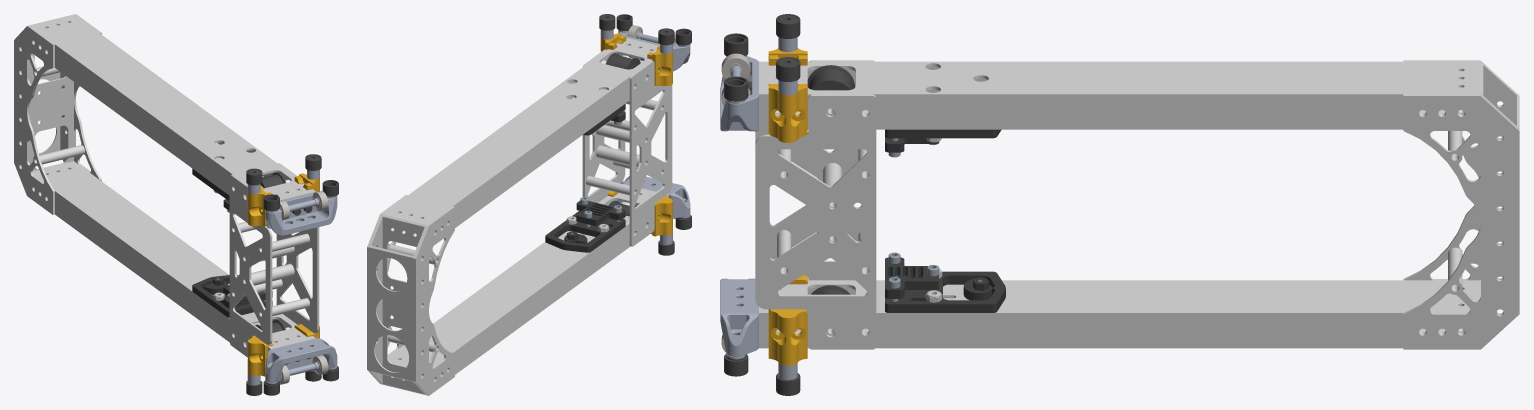
The picture shows the model from 3 angles, left to right: view 1: azimuth 30°, elevation 25°; view 2: azimuth 150°, elevation 25°; view 3: azimuth 270°, elevation 25°; orthographic projection. The views are drawn at different scales.
Parts seen in each view (by area): view 1: 5409-26-P-42001-MOVING-STAGE-TUBE:1 (×2), 5409-26-P-42006-CENTER-PLATE v20:2, 5409-26-P-42001-END-EFFECTOR-PLATE v39:1, Elevator Bearing Block Body REV4(All Parts, Short Spacers) ( (×2), 5409-26-P-42002-END-EFFECTOR-BAR v31:1, 5409-26-P-42006-CENTER-PLATE v20:1, WCP-0323-001 Rev2:1 (×3), 5409-26-P-44001-TENSIONER-BACK-PLATE:1, 5409-26-P-42001-END-EFFECTOR-PLATE v39:2, 5409-26-P-42005-CLAMPING-STANCHION v3:1, 5409-P-26-42011-END-EFFECTOR-STANCHION v4:2, 5409-26-P-42008-MOUNTING-STANCHIONS v2:4 (+1 smaller); view 2: 5409-26-P-42001-MOVING-STAGE-TUBE:1 (×2), 5409-26-P-42002-END-EFFECTOR-BAR v31:1, 5409-26-P-42006-CENTER-PLATE v20:2, 5409-26-P-42001-END-EFFECTOR-PLATE v39:1, WCP-0323-001 Rev2:1 (×3), 5409-26-P-42006-CENTER-PLATE v20:1, 5409-26-P-44001-TENSIONER-BACK-PLATE:1, Elevator Bearing Block Body REV4(All Parts, Short Spacers) ( (×2), 5409-26-P-44002-TENSIONER-GRILL:1, 5409-26-P-42001-END-EFFECTOR-PLATE v39:2, 5409-26-P-42005-CLAMPING-STANCHION v3:1, 5409-26-P-42008-MOUNTING-STANCHIONS v2:3 (+2 smaller); view 3: 5409-26-P-42001-MOVING-STAGE-TUBE:1 (×2), 5409-26-P-42006-CENTER-PLATE v20:1, 5409-26-P-42001-END-EFFECTOR-PLATE v39:2, Elevator Bearing Block Body REV4(All Parts, Short Spacers) ( (×2), WCP-0323-001 Rev2:1 (×2), 5409-26-P-42006-CENTER-PLATE v20:2, 5409-26-P-44001-TENSIONER-BACK-PLATE:1 (×2), 5409-26-P-42001-END-EFFECTOR-PLATE v39:1, 5409-26-P-42002-END-EFFECTOR-BAR v31:1, 5409-26-P-44002-TENSIONER-GRILL:1, idler 18t no teeth v3:1.
Part boxes in pixels (box(x1,y1,x2,y2)): 5409-26-P-42001-MOVING-STAGE-TUBE:1 (×2): box(29, 14, 315, 351); 5409-26-P-42006-CENTER-PLATE v20:2: box(229, 174, 272, 357); 5409-26-P-42001-END-EFFECTOR-PLATE v39:1: box(14, 25, 54, 214); Elevator Bearing Block Body REV4(All Parts, Short Spacers) ( (×2): box(265, 191, 337, 382); 5409-26-P-42002-END-EFFECTOR-BAR v31:1: box(21, 48, 73, 170); 5409-26-P-42006-CENTER-PLATE v20:1: box(276, 163, 319, 333); WCP-0323-001 Rev2:1 (×3): box(247, 173, 319, 376); 5409-26-P-44001-TENSIONER-BACK-PLATE:1: box(192, 275, 272, 317); 5409-26-P-42001-END-EFFECTOR-PLATE v39:2: box(66, 14, 101, 181); 5409-26-P-42005-CLAMPING-STANCHION v3:1: box(245, 263, 294, 285); 5409-P-26-42011-END-EFFECTOR-STANCHION v4:2: box(36, 145, 84, 164); 5409-26-P-42008-MOUNTING-STANCHIONS v2:4: box(261, 298, 309, 316); 5409-26-P-42001-MOVING-STAGE-TUBE:1 (×2): box(382, 38, 668, 379); 5409-26-P-42002-END-EFFECTOR-BAR v31:1: box(369, 214, 426, 395); 5409-26-P-42006-CENTER-PLATE v20:2: box(629, 61, 672, 246); 5409-26-P-42001-END-EFFECTOR-PLATE v39:1: box(414, 206, 454, 395); WCP-0323-001 Rev2:1 (×3): box(600, 33, 672, 236); 5409-26-P-42006-CENTER-PLATE v20:1: box(582, 49, 625, 202); 5409-26-P-44001-TENSIONER-BACK-PLATE:1: box(545, 211, 625, 252); Elevator Bearing Block Body REV4(All Parts, Short Spacers) ( (×2): box(618, 31, 690, 218); 5409-26-P-44002-TENSIONER-GRILL:1: box(576, 201, 625, 226); 5409-26-P-42001-END-EFFECTOR-PLATE v39:2: box(367, 195, 407, 384); 5409-26-P-42005-CLAMPING-STANCHION v3:1: box(596, 145, 645, 167); 5409-26-P-42008-MOUNTING-STANCHIONS v2:3: box(586, 176, 634, 195); 5409-26-P-42001-MOVING-STAGE-TUBE:1 (×2): box(759, 61, 1480, 348); 5409-26-P-42006-CENTER-PLATE v20:1: box(755, 94, 876, 349); 5409-26-P-42001-END-EFFECTOR-PLATE v39:2: box(1403, 94, 1519, 349); Elevator Bearing Block Body REV4(All Parts, Short Spacers) ( (×2): box(720, 56, 758, 356); WCP-0323-001 Rev2:1 (×2): box(768, 84, 807, 365); 5409-26-P-42006-CENTER-PLATE v20:2: box(755, 60, 874, 280); 5409-26-P-44001-TENSIONER-BACK-PLATE:1 (×2): box(885, 129, 1005, 312); 5409-26-P-42001-END-EFFECTOR-PLATE v39:1: box(1403, 60, 1519, 280); 5409-26-P-42002-END-EFFECTOR-BAR v31:1: box(1481, 62, 1519, 314); 5409-26-P-44002-TENSIONER-GRILL:1: box(885, 257, 938, 298); idler 18t no teeth v3:1: box(807, 65, 854, 90).
Size of the model in its own units: 0.0827 by 0.2383 by 0.5245.
